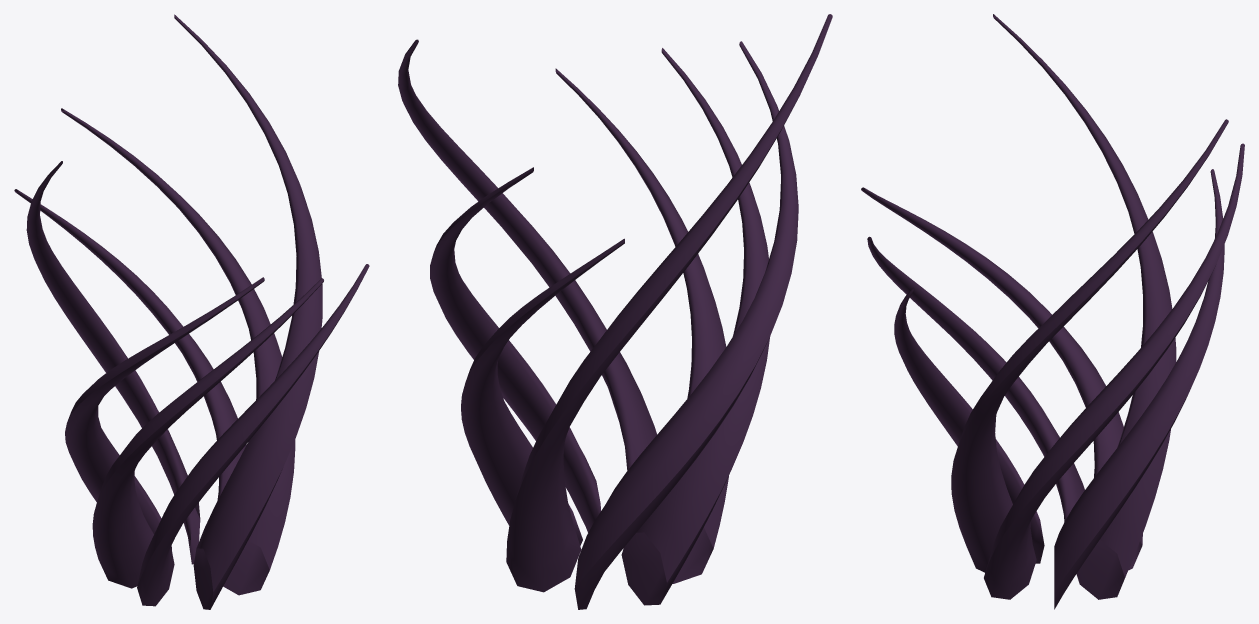
File: ShadowTendrils.fbx
3 renders of one model, left to right at view 1: azimuth 30°, elevation 25°; view 2: azimuth 150°, elevation 25°; view 3: azimuth 270°, elevation 25°, orthographic. The views are drawn at different scales.
Visible parts, largest first — view 1: ShadowTendrils; view 2: ShadowTendrils; view 3: ShadowTendrils.
Part boxes in pixels (x1,y1,x2,y2): ShadowTendrils: (14,14,369,609); ShadowTendrils: (398,14,832,609); ShadowTendrils: (861,14,1244,609).
Bounding box in the file's own units: 1.51 × 2.45 × 1.7.
